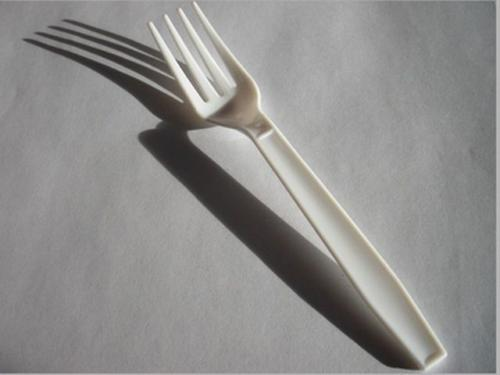Fork: (147, 1, 449, 370)
